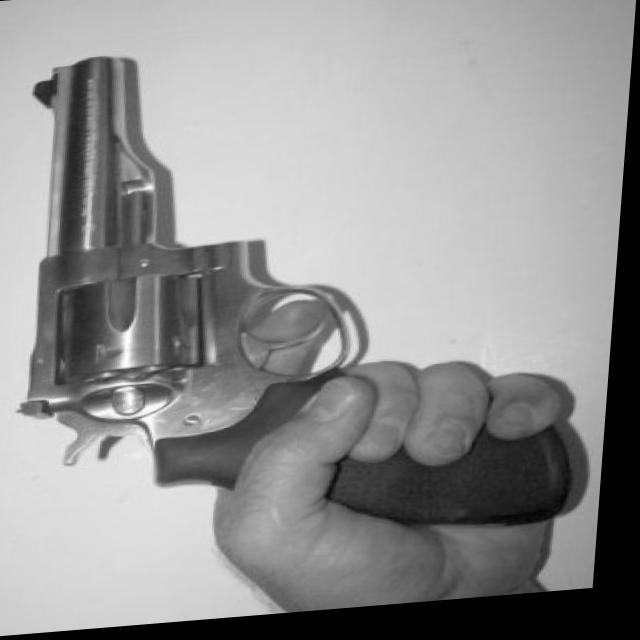handgun: (1, 24, 625, 566)
